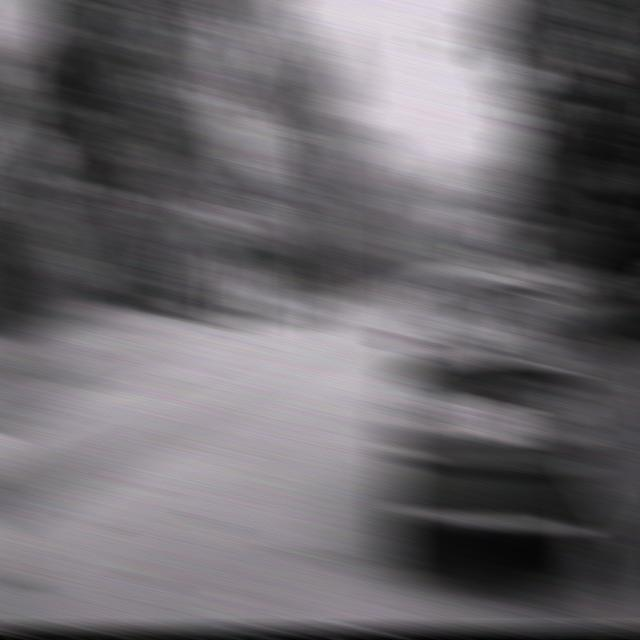stop: (490, 226, 526, 258)
